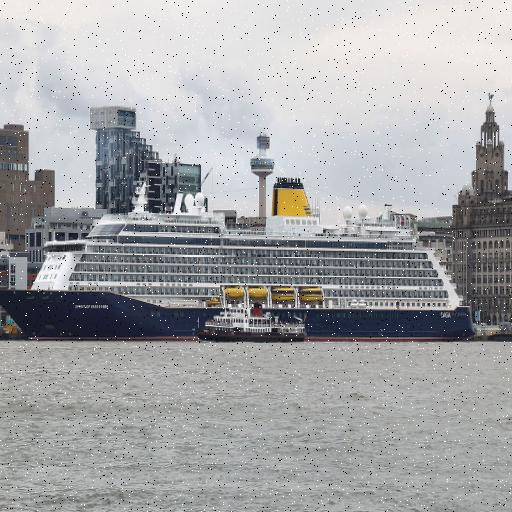cruises: (1, 167, 480, 349)
